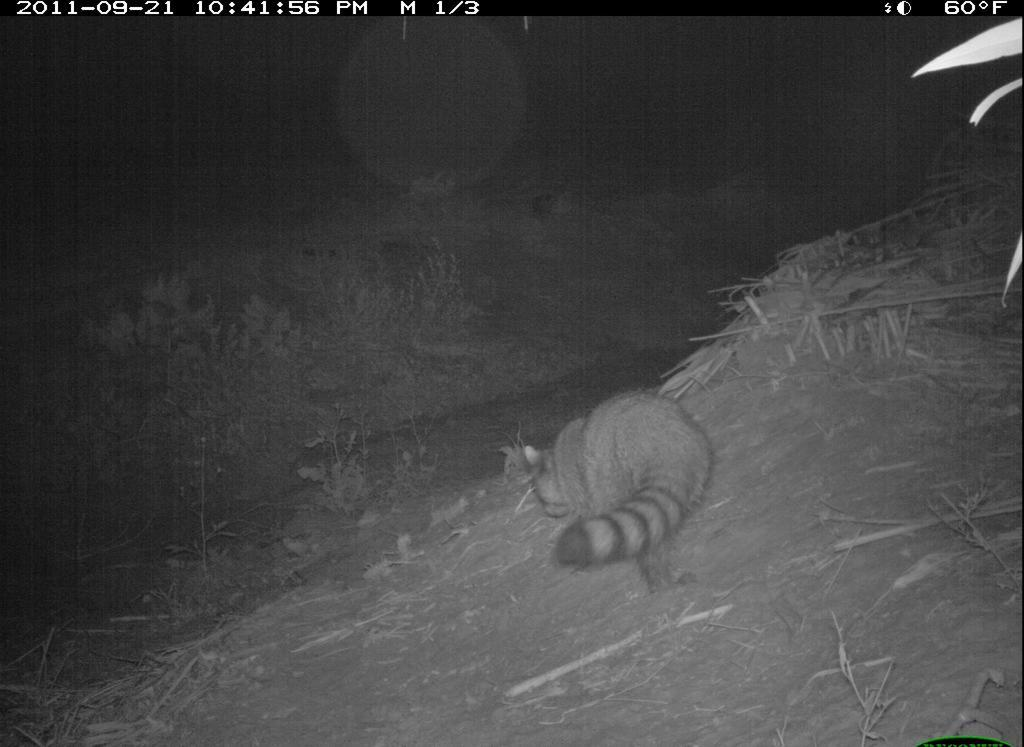raccoon: (514, 386, 729, 603)
